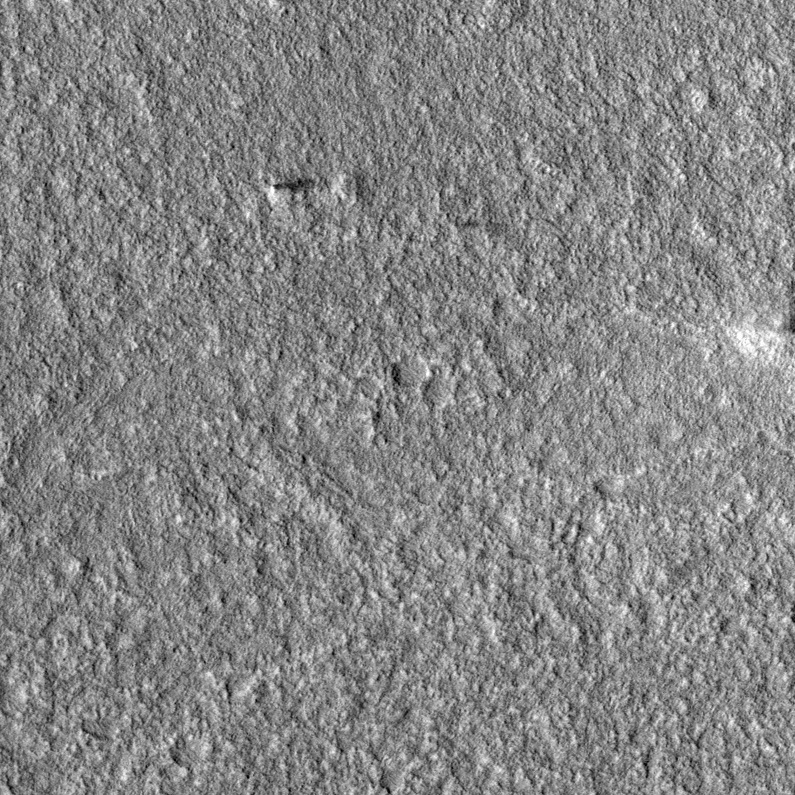dust_devil: (266, 175, 331, 208)
